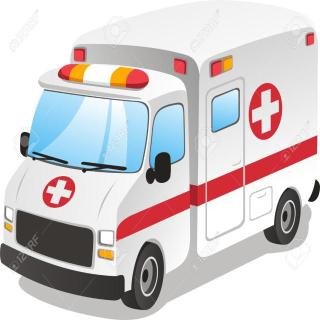Ambulance: (0, 3, 318, 314)
